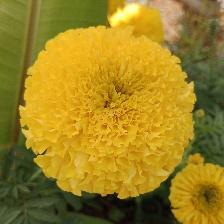marigold: (16, 26, 196, 193)
